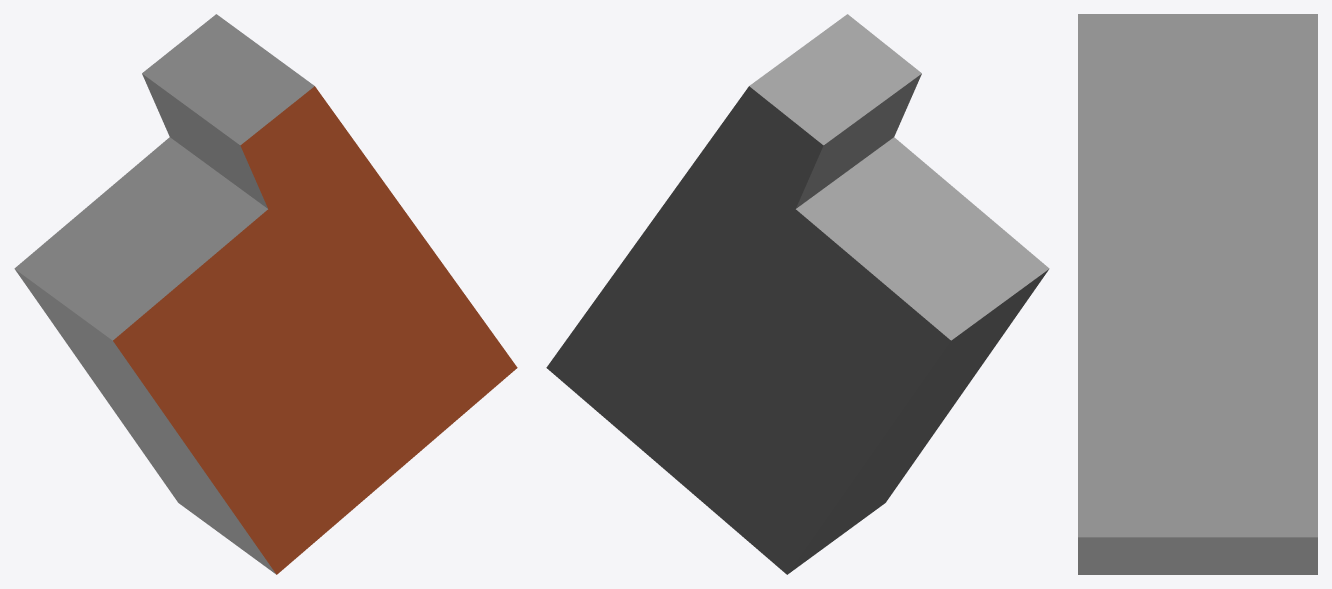
File: construction_0313_assumed_A_Casa_h6m.obj
3 renders of one model, left to right at view 1: azimuth 30°, elevation 25°; view 2: azimuth 150°, elevation 25°; view 3: azimuth 270°, elevation 25°, orthographic. The views are drawn at different scales.
Visible parts, largest first — view 1: construction_0313_assumed_A_Casa; view 2: construction_0313_assumed_A_Casa; view 3: construction_0313_assumed_A_Casa.
Boxes of the visible parts, x1,y1,x2,y2 form: construction_0313_assumed_A_Casa: (14, 14, 517, 574); construction_0313_assumed_A_Casa: (546, 14, 1049, 574); construction_0313_assumed_A_Casa: (1078, 14, 1317, 574).
Size of the model in its own units: 14.24 by 16.12 by 6.
